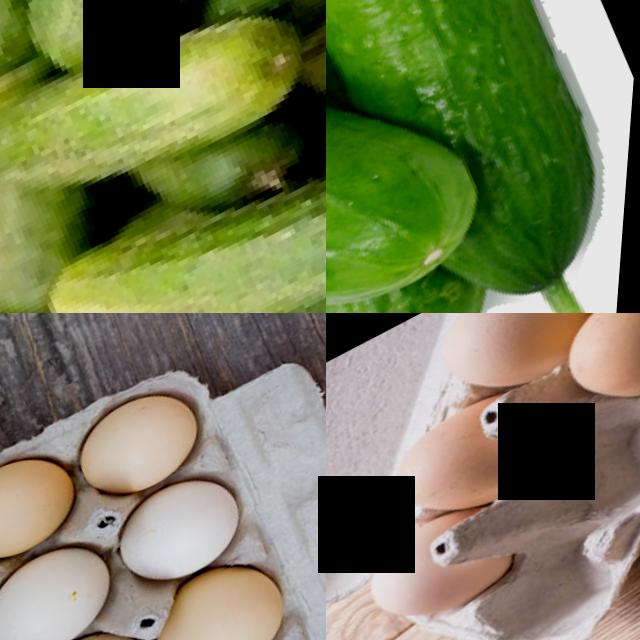cucumber: (0, 0, 326, 249), (326, 0, 496, 313), (326, 0, 573, 150), (160, 96, 326, 313), (35, 189, 263, 313), (0, 0, 283, 87)
egg_: (103, 461, 265, 607), (60, 377, 222, 522), (377, 406, 509, 533), (141, 544, 315, 640), (0, 528, 143, 640), (417, 313, 569, 414), (0, 439, 95, 584), (348, 525, 462, 640), (542, 313, 640, 431)
